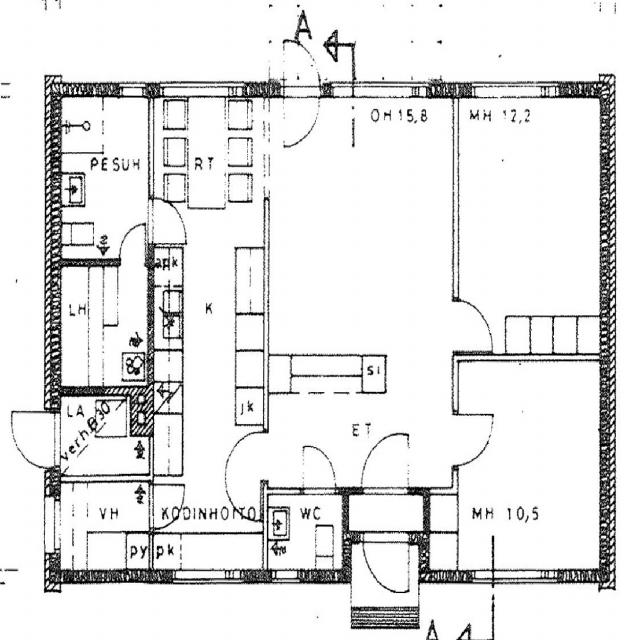door: (363, 530, 409, 603), (3, 412, 61, 467), (362, 425, 408, 494), (452, 414, 497, 465), (452, 300, 496, 351), (284, 34, 319, 98), (284, 82, 319, 144), (227, 432, 268, 481), (148, 484, 186, 528), (148, 198, 186, 242), (303, 445, 335, 494), (120, 226, 145, 266)
